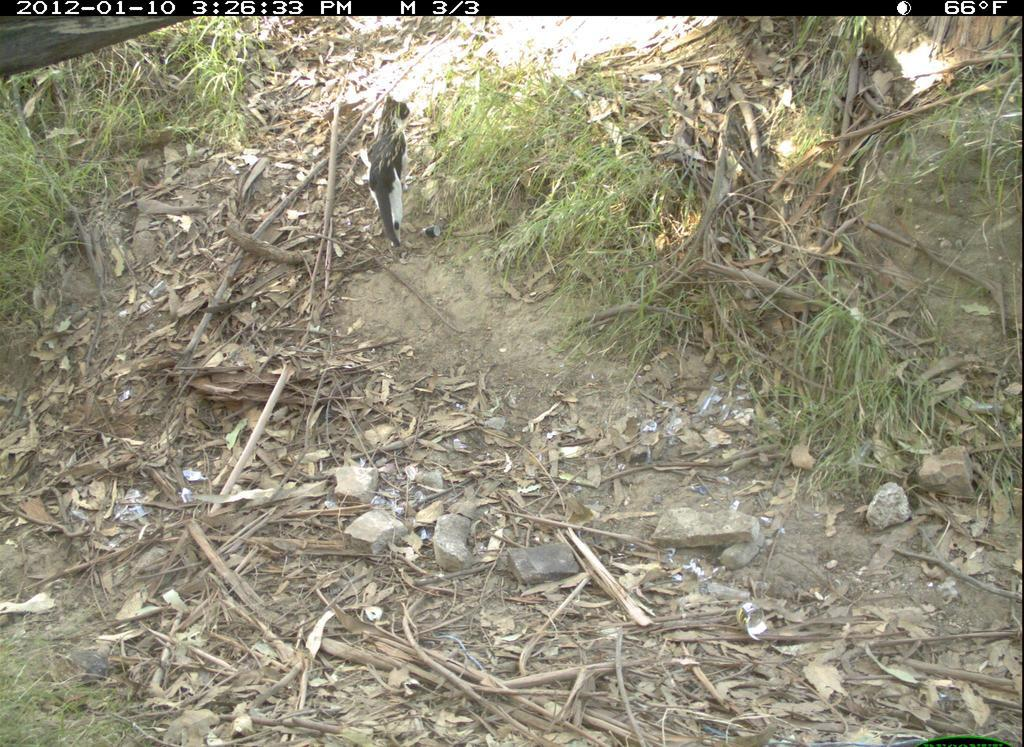cat: (358, 90, 422, 259)
